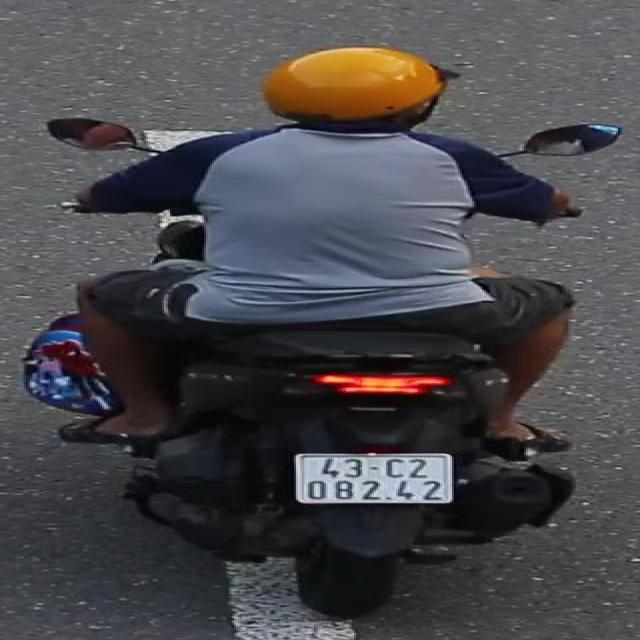LP: (285, 449, 459, 509)
helmet: (260, 42, 450, 137)
